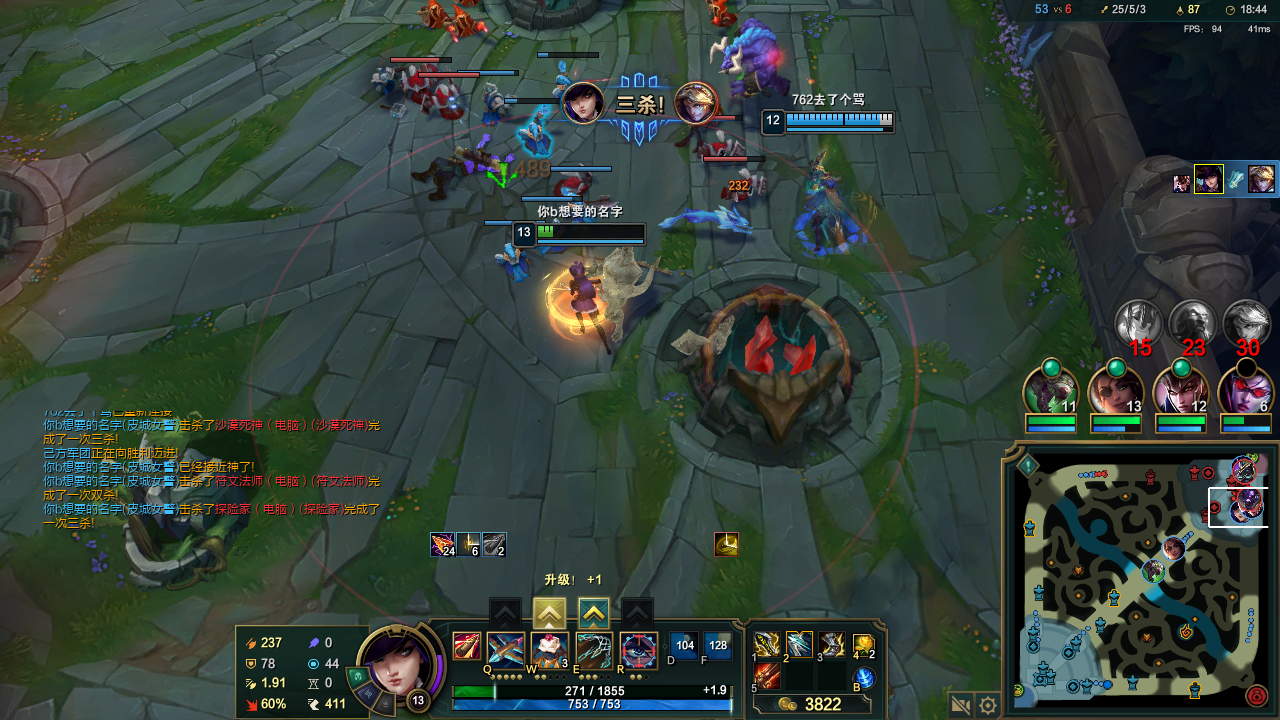DFXB: (427, 82, 467, 123), (444, 10, 487, 47), (722, 168, 761, 205), (401, 64, 434, 105), (706, 132, 750, 162), (708, 4, 742, 30), (415, 2, 442, 23)
Shenji: (580, 603, 606, 623)
Tuijianshengji: (538, 602, 563, 627)
WFXB: (490, 240, 528, 291), (515, 120, 562, 155), (552, 187, 594, 218), (485, 81, 513, 118)
